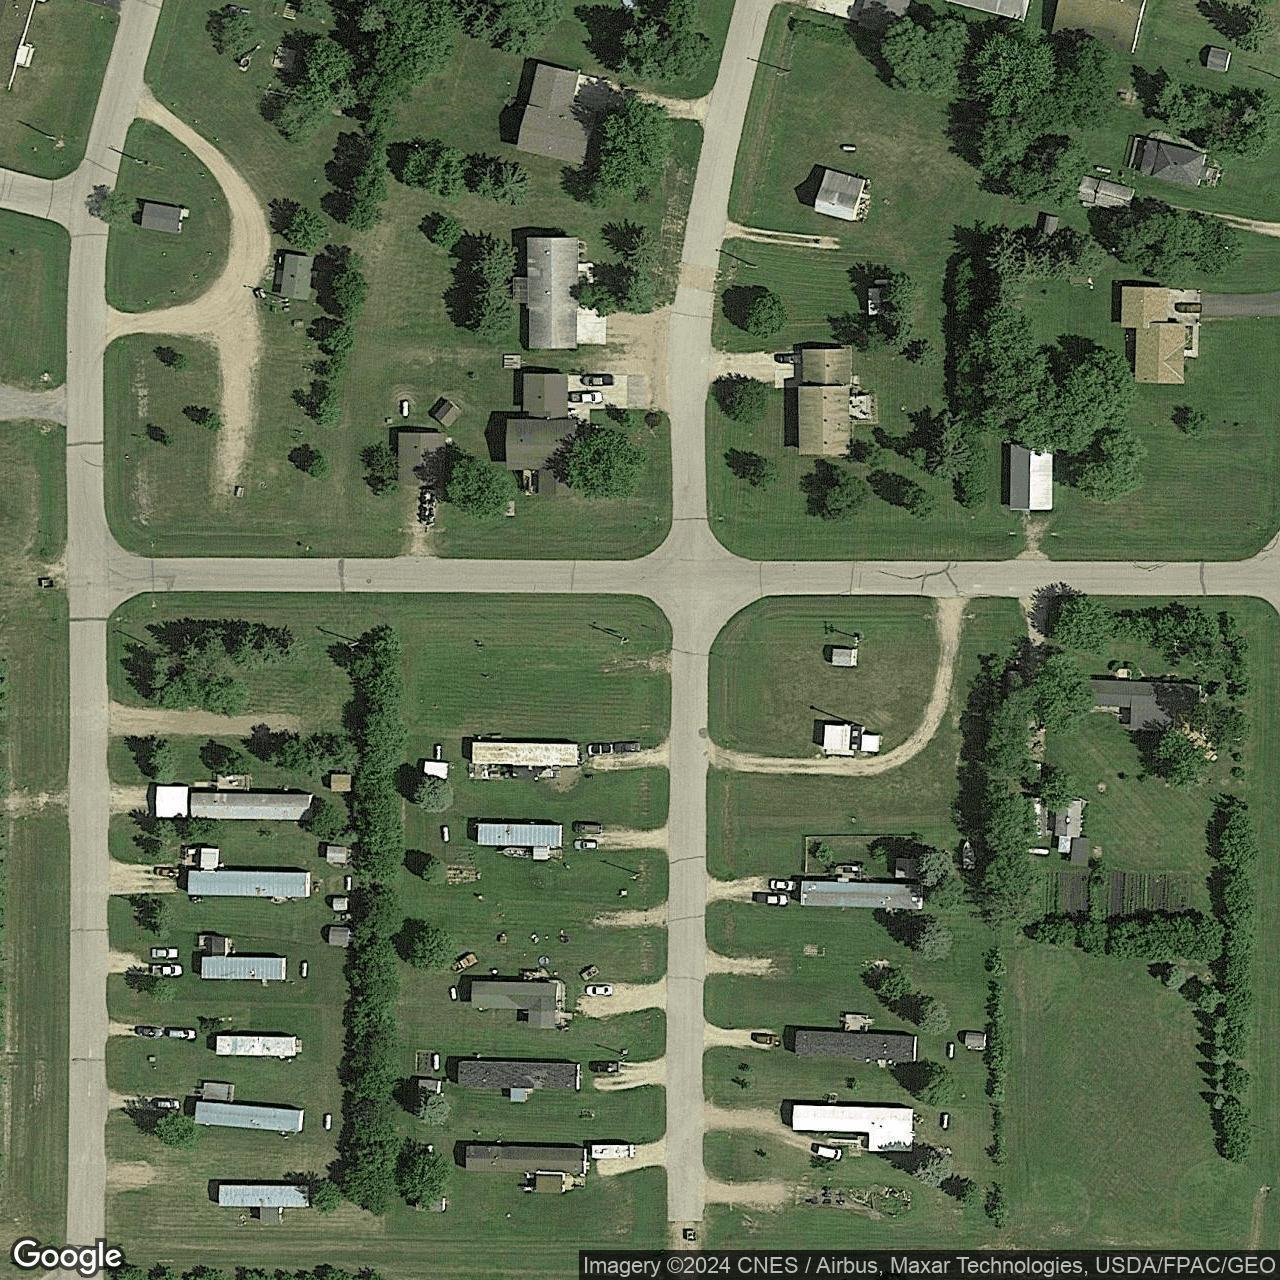Garage: (1009, 443, 1054, 510), (813, 169, 865, 222), (396, 433, 447, 485), (1076, 175, 1136, 213), (824, 724, 880, 755), (280, 253, 314, 301), (156, 785, 189, 818), (1055, 801, 1081, 836)
House: (506, 373, 577, 497), (515, 63, 597, 166), (1121, 287, 1186, 383), (798, 346, 853, 456), (1085, 680, 1203, 730), (525, 237, 578, 348), (1051, 0, 1148, 55), (1141, 138, 1212, 188), (947, 0, 1030, 22)
Propane: (1092, 164, 1112, 176), (1026, 847, 1050, 856), (299, 960, 309, 979), (940, 1111, 949, 1131), (441, 825, 450, 844), (946, 1041, 955, 1060), (401, 400, 409, 418), (324, 1112, 332, 1131), (433, 1053, 441, 1071), (345, 874, 353, 892), (434, 743, 442, 761), (872, 278, 891, 285), (449, 986, 457, 1000), (840, 144, 857, 151)
Trailer: (791, 1104, 914, 1152), (471, 981, 558, 1032), (796, 1032, 918, 1063), (801, 879, 924, 910), (459, 1060, 580, 1090), (467, 1145, 587, 1176), (217, 1185, 311, 1224), (190, 792, 314, 821), (193, 1102, 304, 1132), (189, 871, 311, 898), (472, 742, 578, 765), (200, 955, 287, 981), (215, 1034, 298, 1057), (477, 824, 564, 846)
